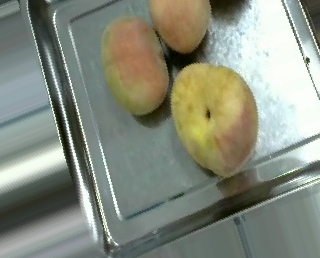Peach: (170, 60, 257, 178), (100, 15, 169, 117), (147, 0, 211, 56)
